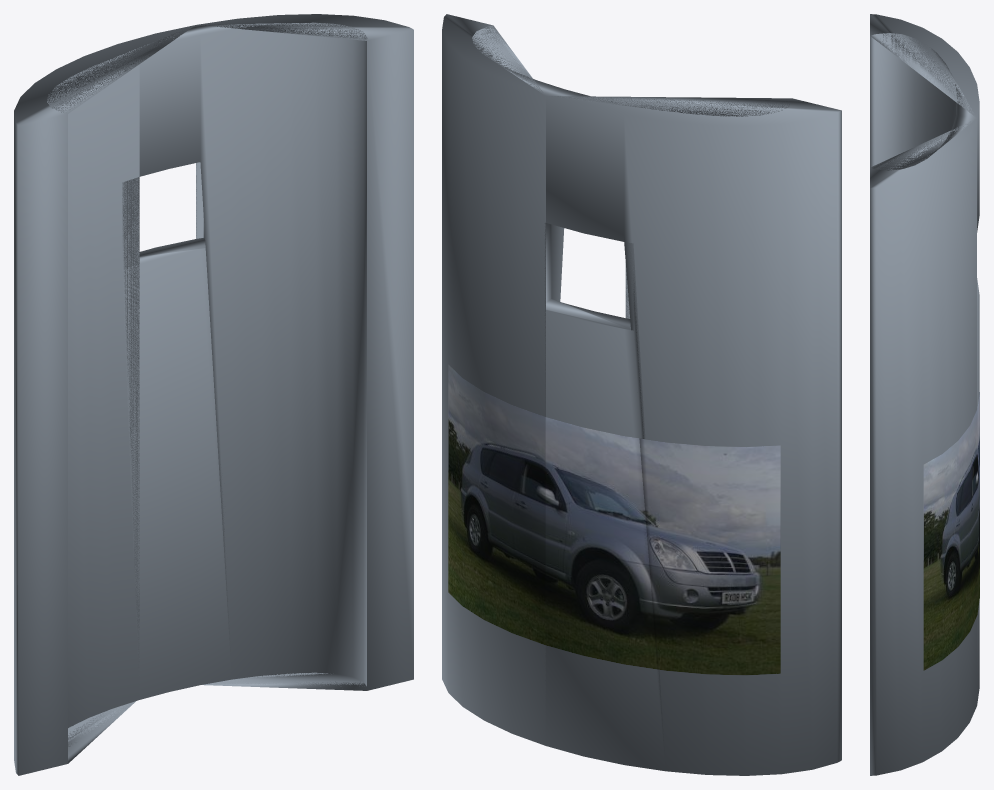
File: rexton.glb
3 views of the same model, side by side, from view 1: azimuth 30°, elevation 25°; view 2: azimuth 150°, elevation 25°; view 3: azimuth 270°, elevation 25° (orthographic). The views are drawn at different scales.
Parts seen in each view (by area): view 1: Shield; view 2: Shield; view 3: Shield.
Boxes of the visible parts, x1,y1,x2,y2 form: Shield: (14, 14, 413, 775); Shield: (442, 14, 841, 775); Shield: (870, 14, 979, 775).
Bounding box in the file's own units: 2.74 × 4.31 × 0.73.
Materials: 2 (1 with a texture image).
